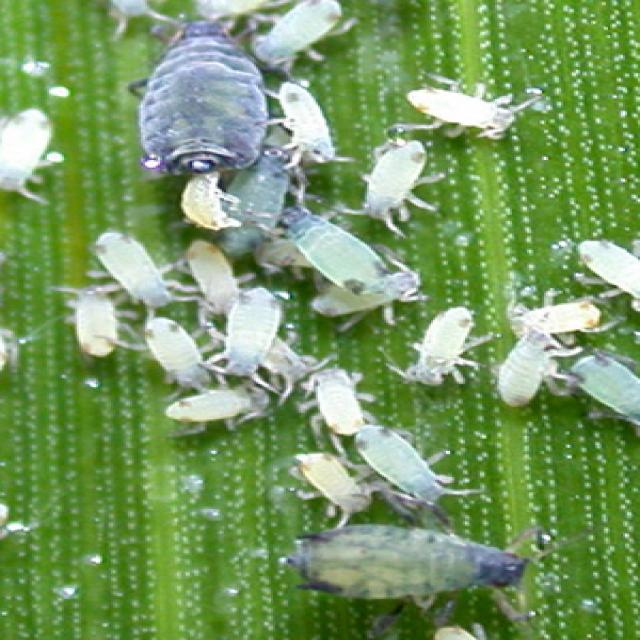Aphid-Grown-: (102, 11, 314, 182), (273, 504, 556, 624), (385, 61, 552, 157), (194, 280, 304, 381), (77, 227, 194, 318), (346, 133, 448, 234), (346, 419, 454, 507), (149, 373, 288, 438), (292, 356, 390, 447), (477, 323, 570, 418), (51, 274, 141, 368)
